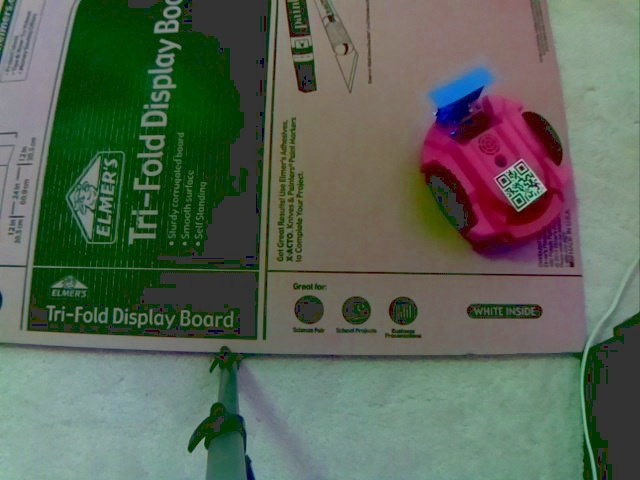board: (423, 62, 493, 129)
chassis: (422, 59, 573, 255)
